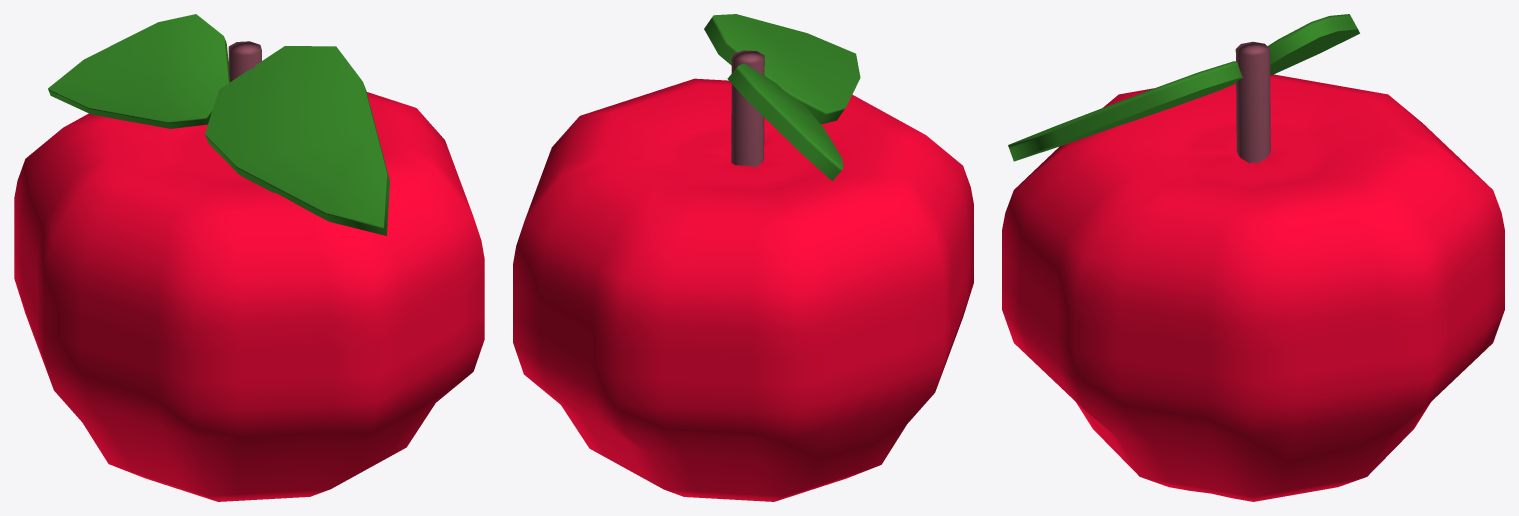
The model's file is Yabloko.fbx.
3 renders of one model, left to right at view 1: azimuth 30°, elevation 25°; view 2: azimuth 150°, elevation 25°; view 3: azimuth 270°, elevation 25°, orthographic. The views are drawn at different scales.
Parts seen in each view (by area): view 1: Yabloko, Prism, Prism__1_; view 2: Yabloko, Prism, Prism__1_; view 3: Yabloko, Prism, Prism__1_.
Part boxes in pixels (x1,y1,x2,y2): Yabloko: [14, 41, 484, 501]; Prism: [205, 46, 389, 235]; Prism__1_: [48, 14, 229, 128]; Yabloko: [513, 50, 973, 501]; Prism: [704, 14, 860, 124]; Prism__1_: [727, 63, 843, 181]; Yabloko: [1002, 41, 1504, 501]; Prism: [1008, 61, 1242, 161]; Prism__1_: [1267, 14, 1359, 75].
Bounding box in the file's own units: 246 × 242 × 264.
